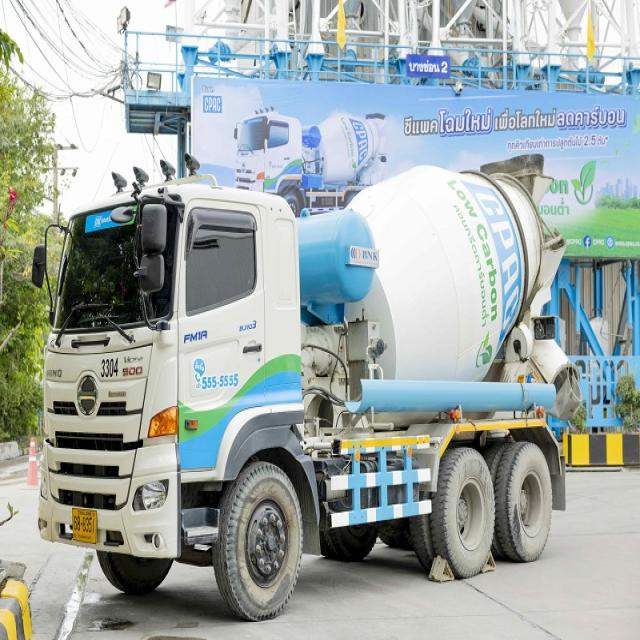cement_mixer_truck: (38, 166, 583, 626)
